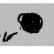correct: (18, 11, 43, 34)
